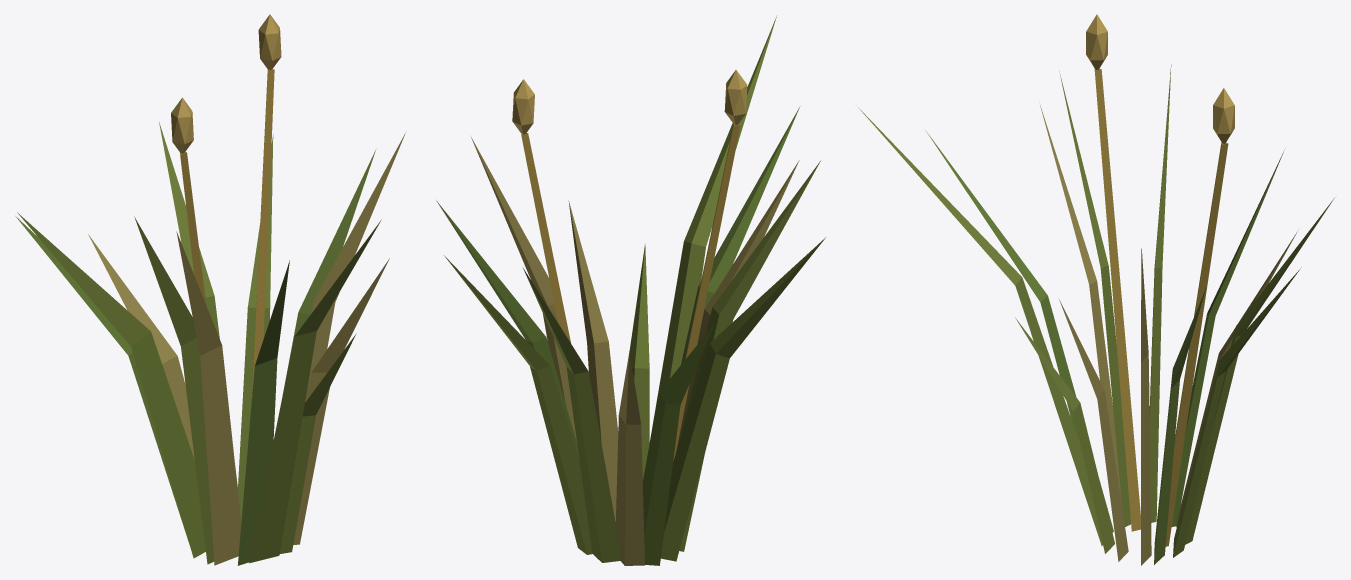
File: grass.glb
3 renders of one model, left to right at view 1: azimuth 30°, elevation 25°; view 2: azimuth 150°, elevation 25°; view 3: azimuth 270°, elevation 25°, orthographic.
Parts seen in each view (by area): view 1: grass; view 2: grass; view 3: grass.
Part boxes in pixels (x1,y1,x2,y2): grass: (15,14,406,565); grass: (436,16,825,565); grass: (858,14,1334,565).
Size of the model in its own units: 0.7578 by 0.9343 by 0.8361.
